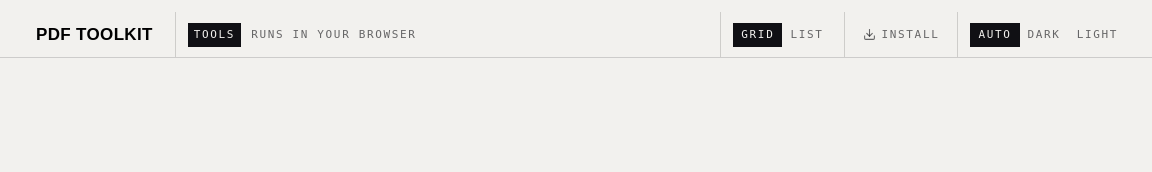
Test: offers an Install button only when the browser can install the app
This screenshot has width=1152, height=172.
Click the button "Install" at (901, 34), box [856,22,945,46]
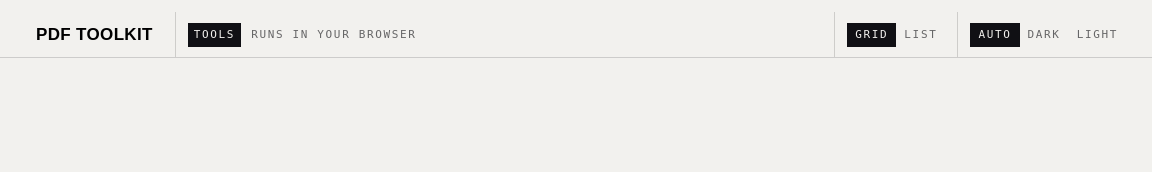
Now the button "Install" is gone
